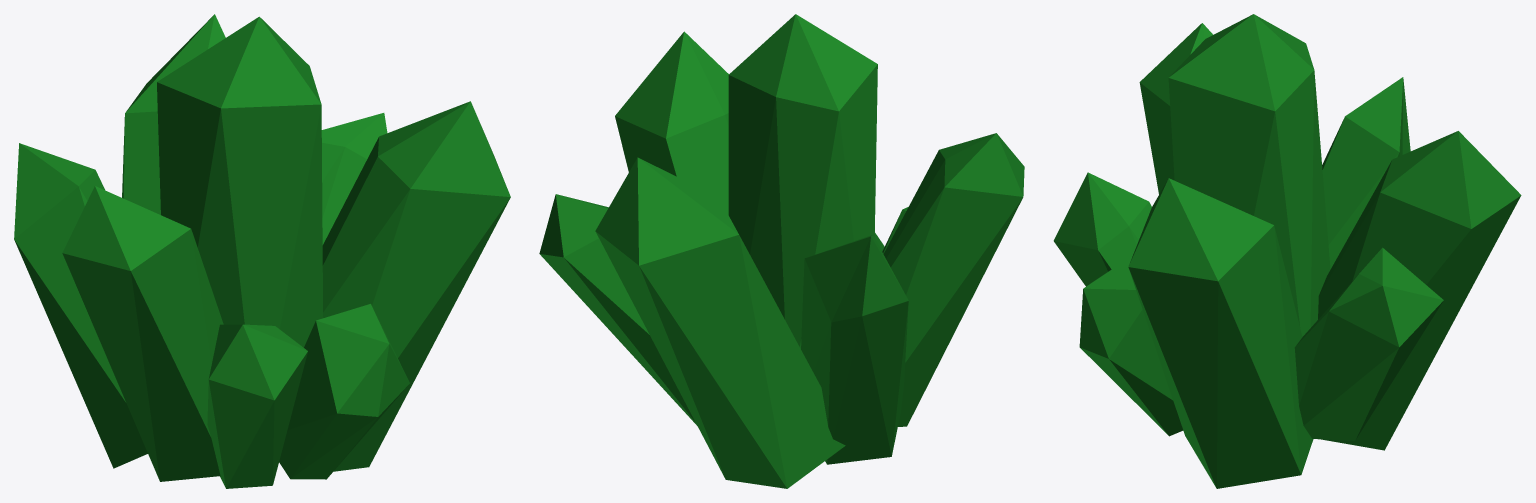
File: green_crystal_block.obj
3 views of the same model, side by side, from view 1: azimuth 30°, elevation 25°; view 2: azimuth 150°, elevation 25°; view 3: azimuth 270°, elevation 25° (orthographic). The views are drawn at different scales.
Visible parts, largest first — view 1: Icosphere.036_Icosphere.037; view 2: Icosphere.036_Icosphere.037; view 3: Icosphere.036_Icosphere.037.
Boxes of the visible parts, box(x1,y1,x2,y2) form: Icosphere.036_Icosphere.037: box(14, 14, 510, 488); Icosphere.036_Icosphere.037: box(539, 14, 1024, 488); Icosphere.036_Icosphere.037: box(1053, 14, 1521, 488).
Size of the model in its own units: 1.01 by 1.01 by 0.9894.
